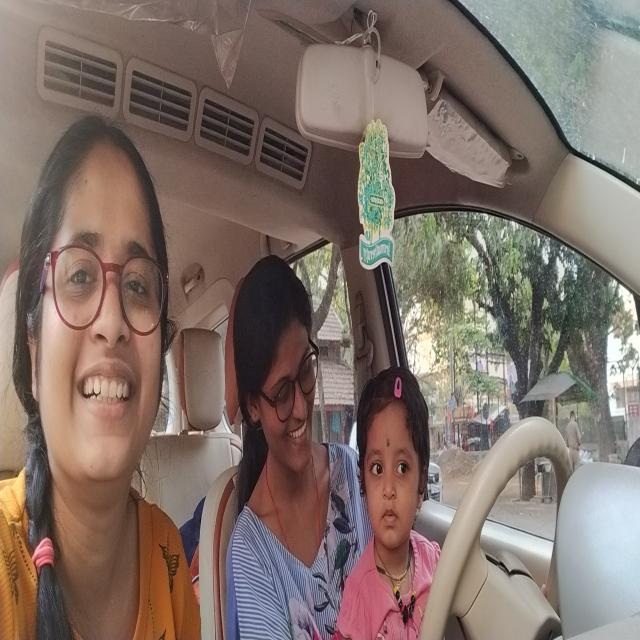child: (353, 362, 434, 556)
person: (13, 110, 178, 518), (224, 245, 324, 485)
